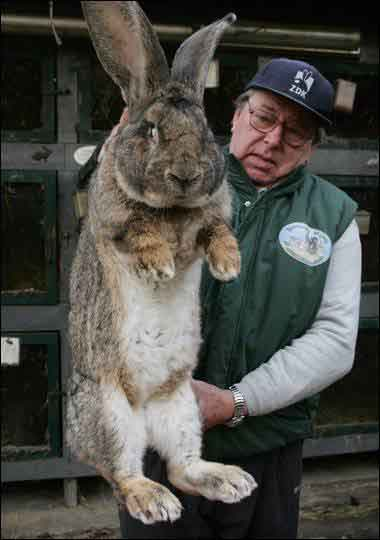bunny: (39, 1, 288, 532)
